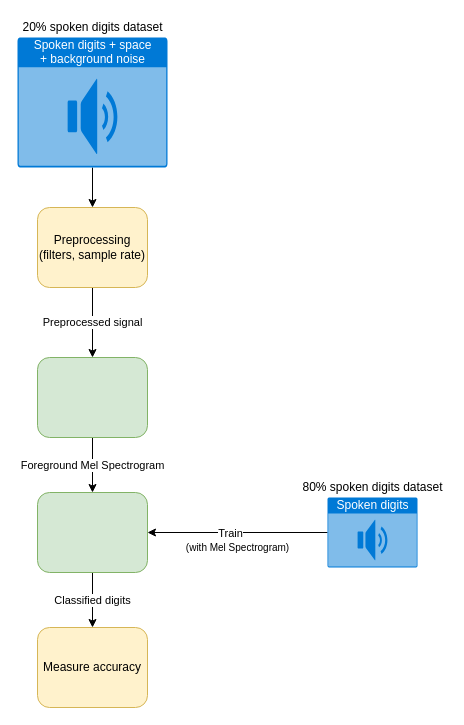
The diagram is 464 pixels wide and 725 high, and some of its shapes have lost their labels. Here are the shapes that lost their labels. From the top down, the centre of each, then its label:
At pixel 92 397: "Background vs Foreground classifier".
At pixel 92 532: "Some classifier for digit classification (probably K-Means)".
